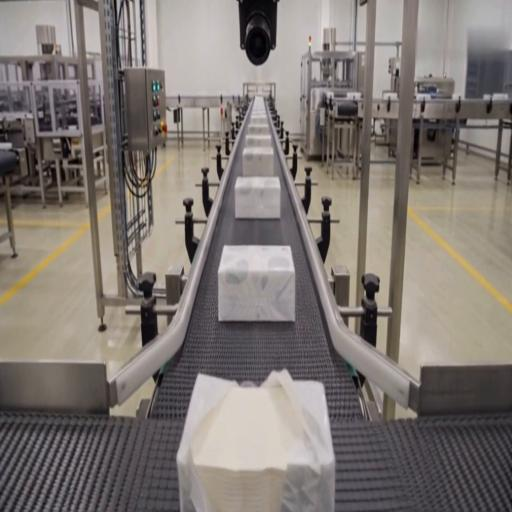defective: (179, 370, 334, 511)
good: (218, 246, 295, 323), (234, 177, 282, 220), (241, 147, 276, 178), (244, 132, 271, 150), (246, 120, 271, 135), (248, 106, 270, 123)
